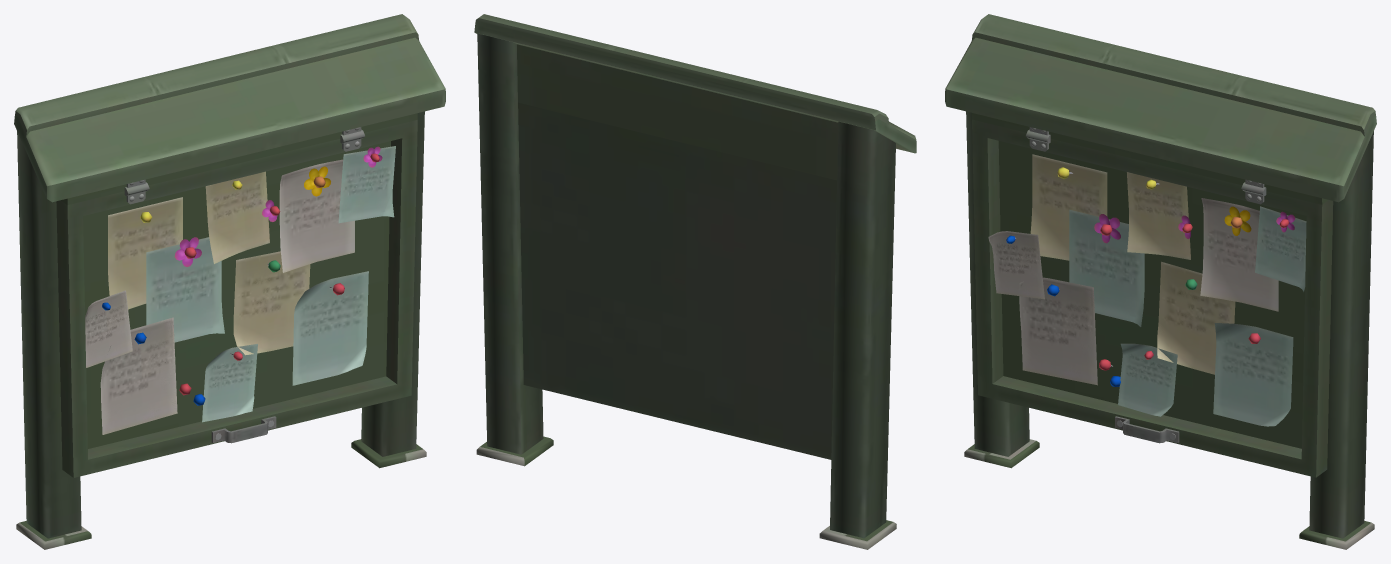
Rendered from notice-board.glb.
3 renders of one model, left to right at view 1: azimuth 30°, elevation 25°; view 2: azimuth 150°, elevation 25°; view 3: azimuth 330°, elevation 25°, orthographic. The views are drawn at different scales.
Parts seen in each view (by area): view 1: EvtobjBbs_node1; view 2: EvtobjBbs_node1; view 3: EvtobjBbs_node1.
Part boxes in pixels (bbox=[...]): EvtobjBbs_node1: bbox=[14, 14, 445, 549]; EvtobjBbs_node1: bbox=[474, 14, 916, 549]; EvtobjBbs_node1: bbox=[945, 14, 1376, 549].
Bounding box in the file's own units: 1.7 × 1.72 × 0.3088.
1 material, 1 textured.
